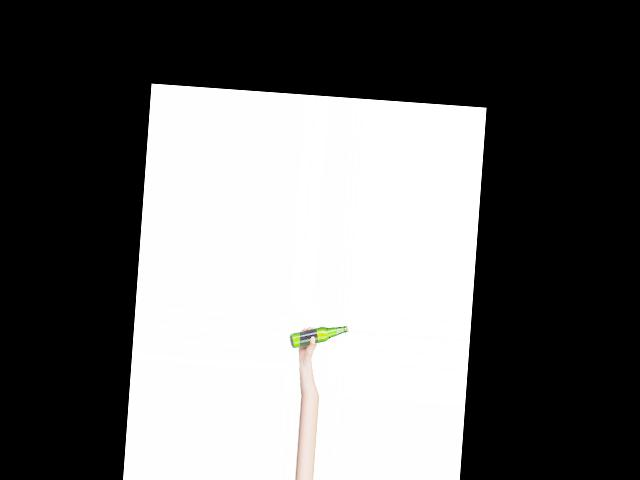beer: (288, 321, 348, 351)
